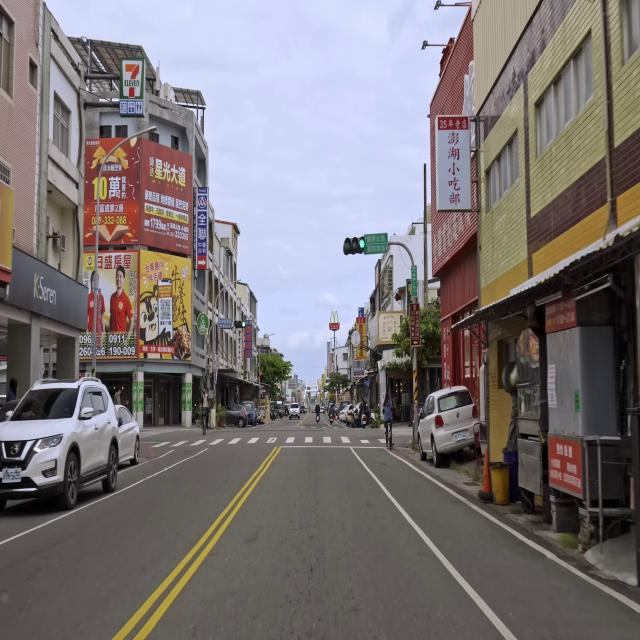green light: (342, 237, 365, 254), (234, 320, 246, 328)
